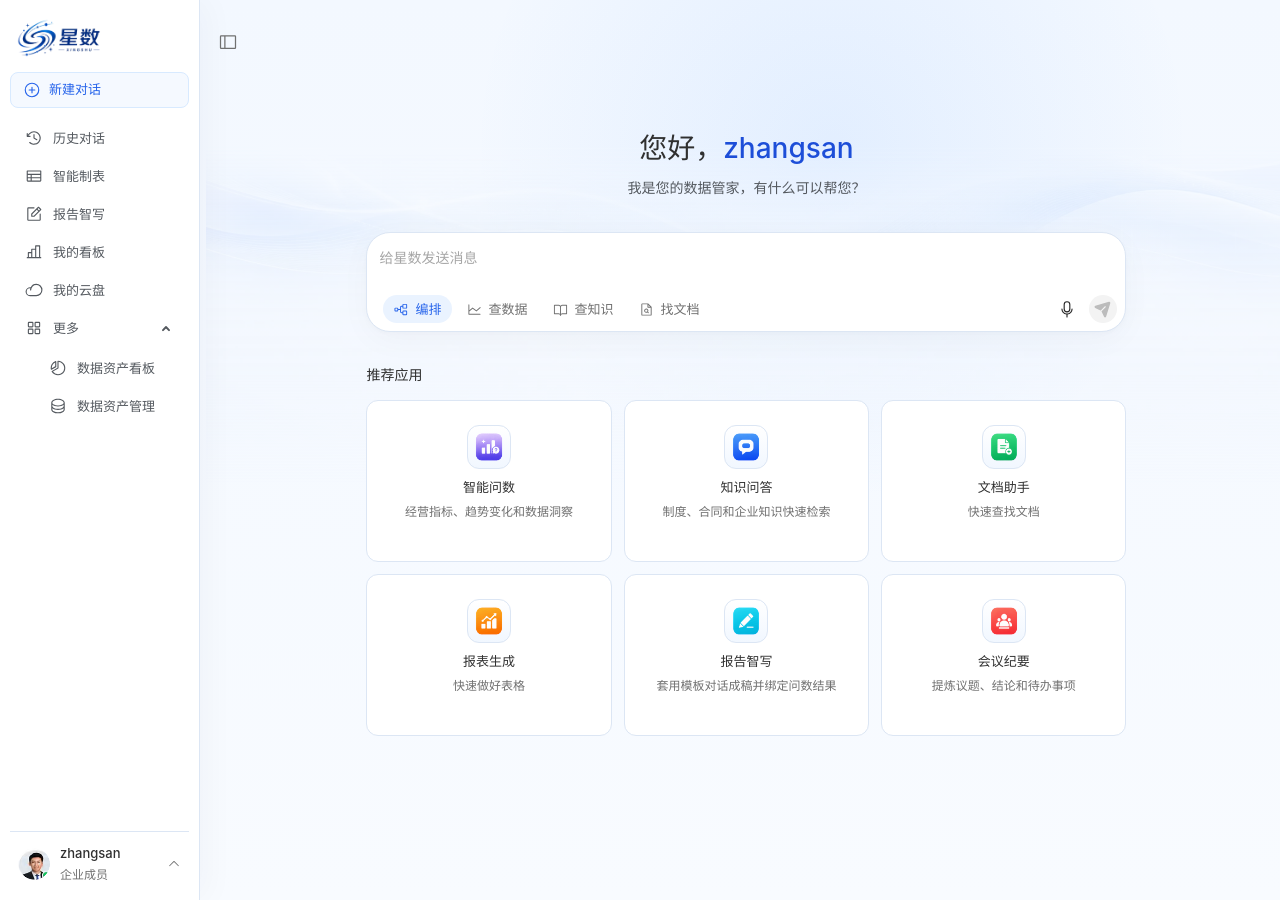
Test case: AppRoutes › starts an agent analysis from the home command box
Type "分析本月经营数据" into the text box named "命令输入" at (746, 264), box [367, 234, 1125, 296]
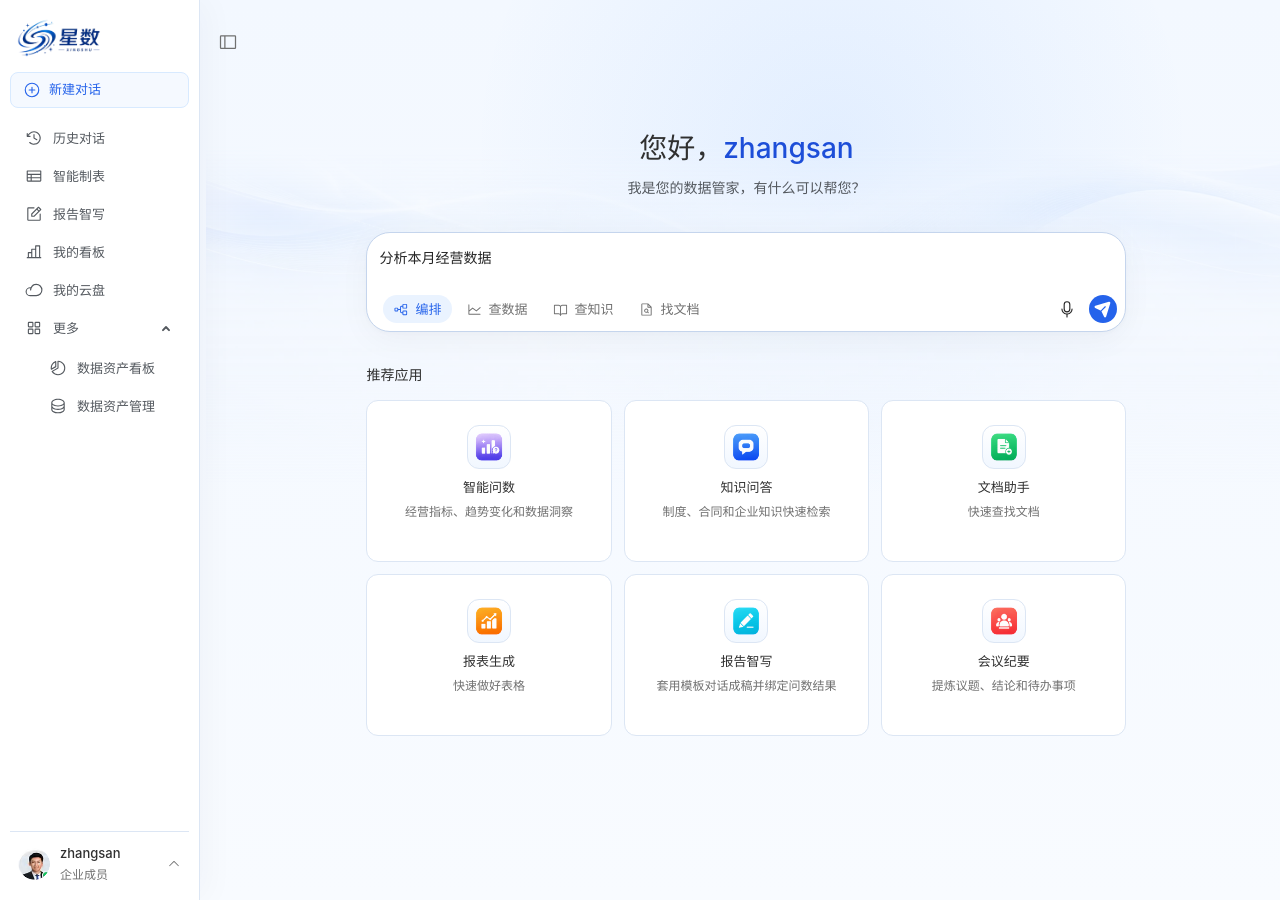
Click the button named "发送" at (1103, 310), box [1089, 296, 1117, 324]
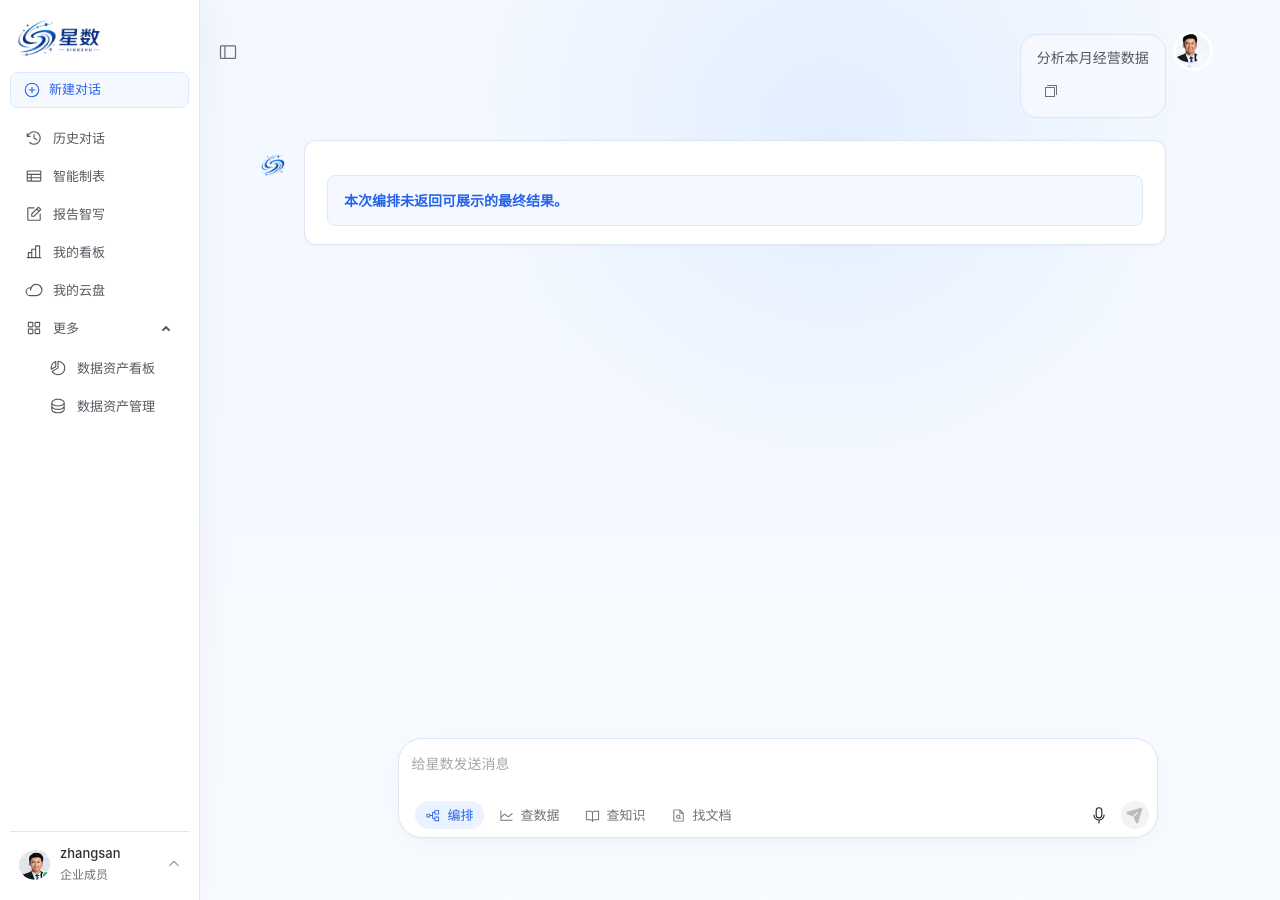
expect the text "分析本月经营数据" is shown: met, box [1037, 47, 1149, 69]
